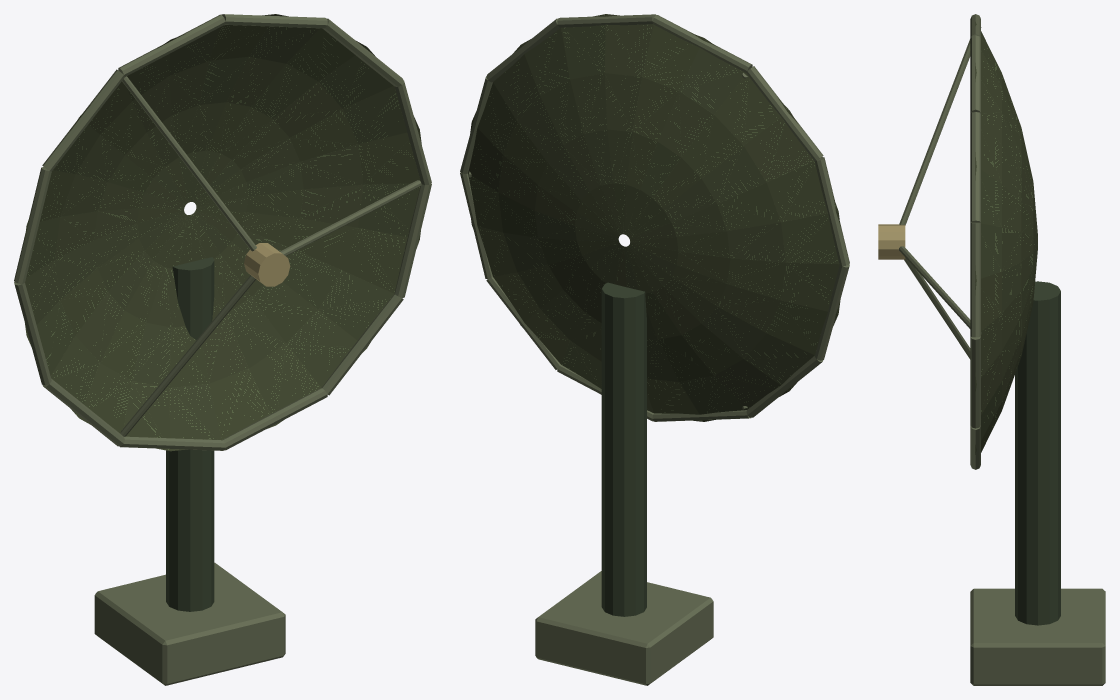
Rendered from satellite_dish.obj.
3 views of the same model, side by side, from view 1: azimuth 30°, elevation 25°; view 2: azimuth 150°, elevation 25°; view 3: azimuth 270°, elevation 25° (orthographic). The views are drawn at different scales.
Parts seen in each view (by area): view 1: satellite_dish; view 2: satellite_dish; view 3: satellite_dish.
Boxes of the visible parts, x1,y1,x2,y2 form: satellite_dish: [14, 14, 431, 685]; satellite_dish: [460, 14, 849, 685]; satellite_dish: [878, 14, 1105, 685].
Bounding box in the file's own units: 3.38 × 5.09 × 1.68.
1 material, 1 textured.
